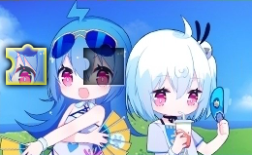gap: (83, 44, 125, 86)
